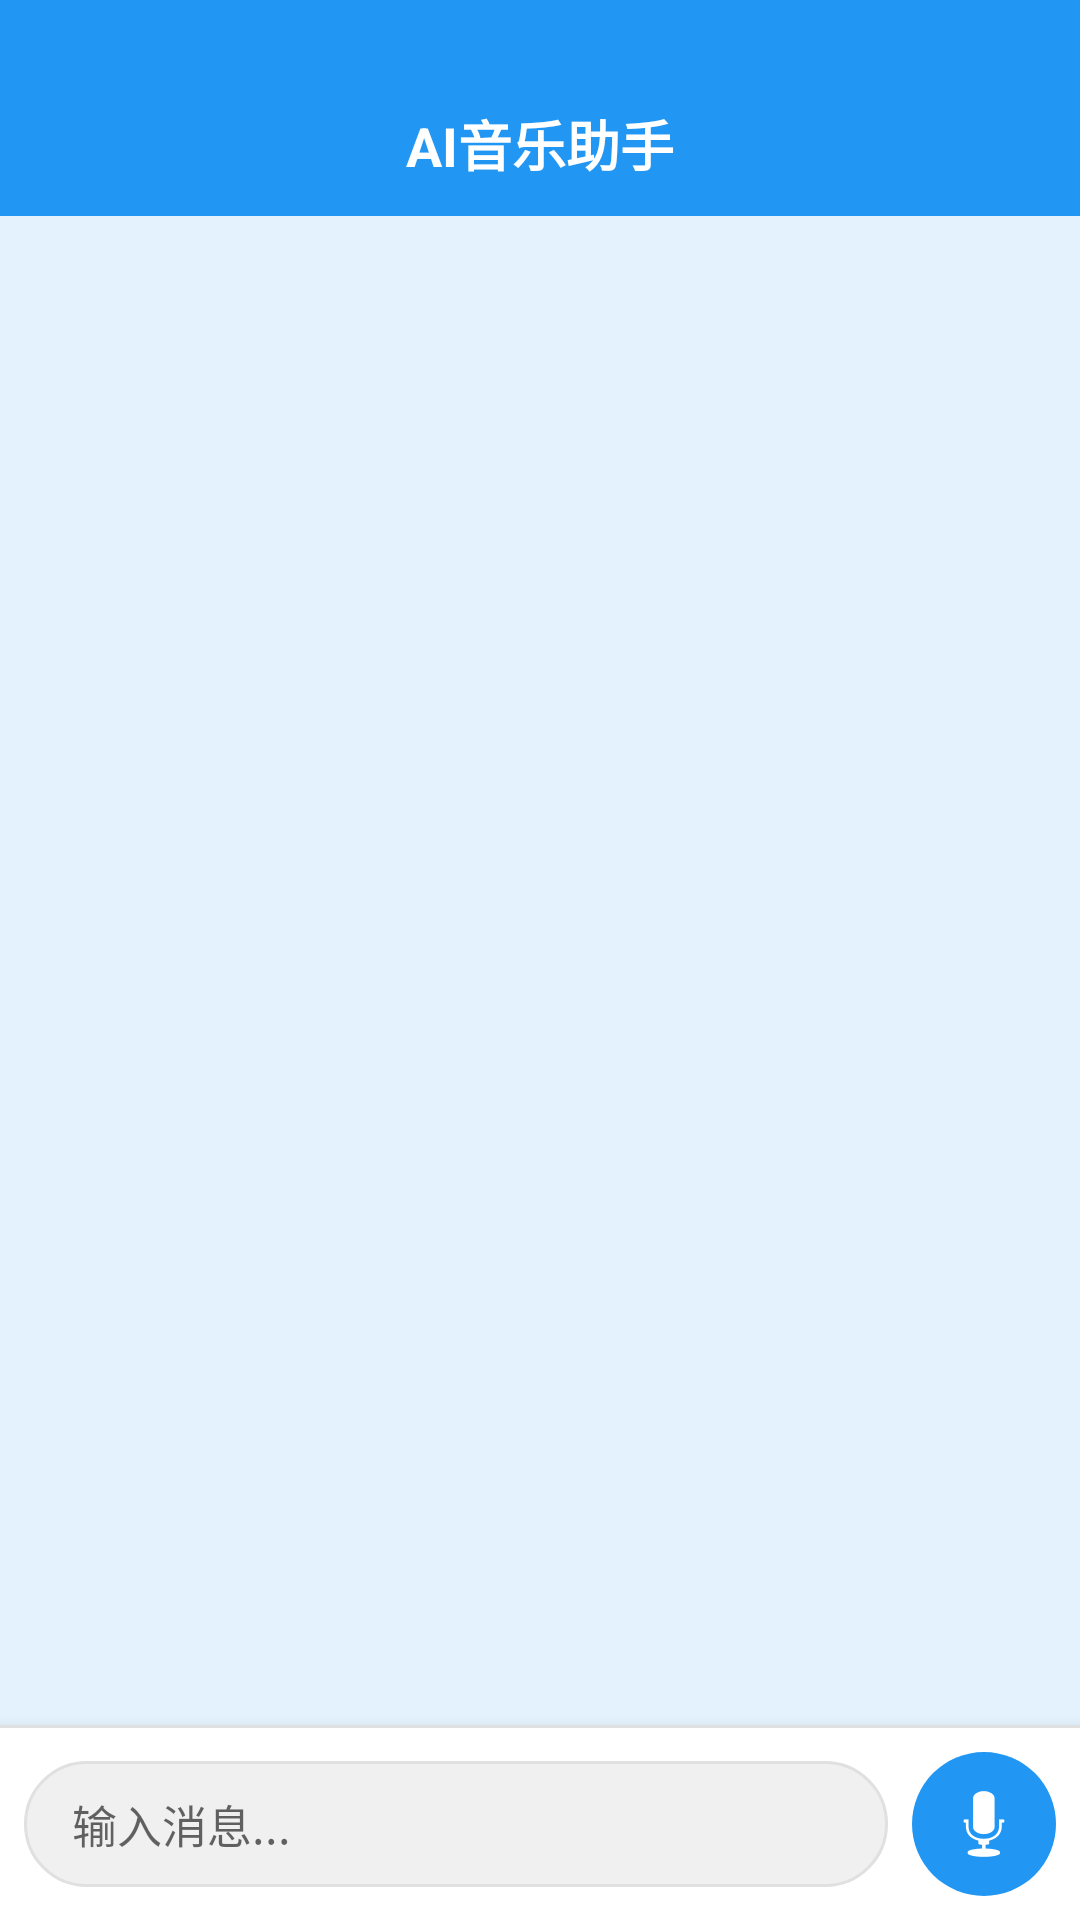

Icon bounding boxes for this 1080 × 1920 phone screenshot, format box=[x1, y1, x2, y2]:
语音输入: box=[912, 1752, 1056, 1896]
